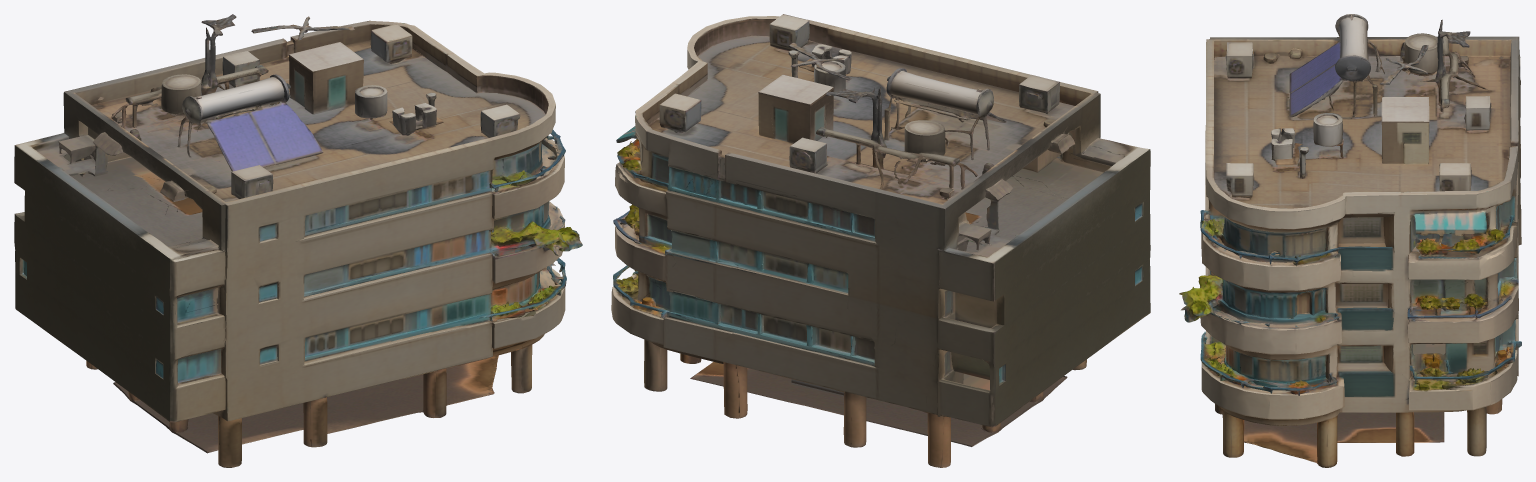
Rendered from r3_bauhaus_corner.glb.
The picture shows the model from 3 angles, left to right: view 1: azimuth 30°, elevation 25°; view 2: azimuth 150°, elevation 25°; view 3: azimuth 270°, elevation 25°; orthographic projection.
Visible parts, largest first — view 1: geometry_0; view 2: geometry_0; view 3: geometry_0.
Part boxes in pixels (x1=…): geometry_0: x1=14, y1=14, x2=582, y2=467; geometry_0: x1=611, y1=14, x2=1150, y2=467; geometry_0: x1=1179, y1=14, x2=1521, y2=467.
Size of the model in its own units: 20 by 15 by 14.
1 material, 1 textured.
